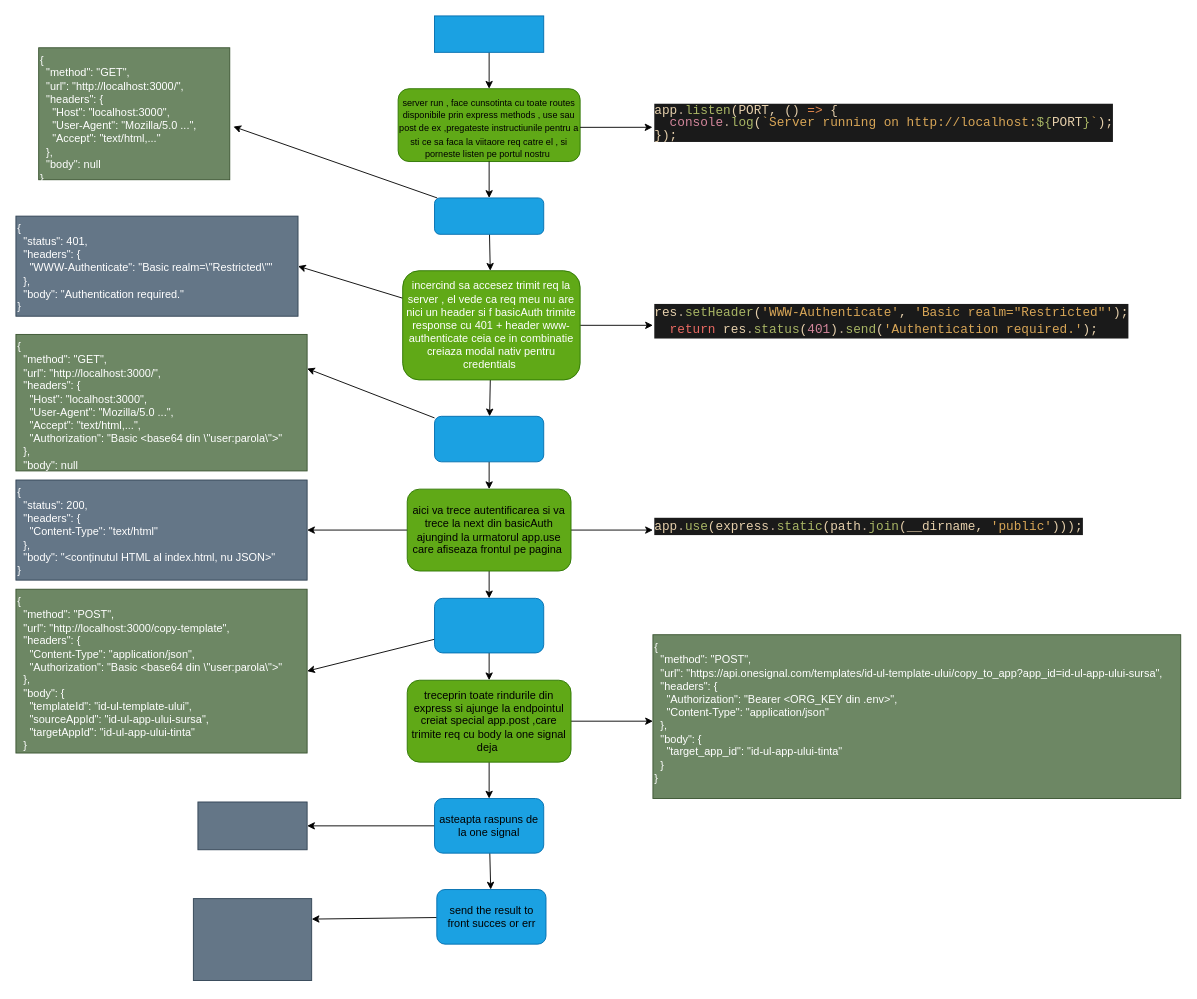
Some shapes in this 1197 by 999 pixel diagram are drawn without their labels. The box of each missing label's shape, as (x1, y1, x2, y2) in pixels:
inseram datele in formular si apasam send: (434, 597, 544, 653)
inseram datele si retrimitem alt req cu date pentru auth: (434, 415, 544, 462)
localhost:PORT: (434, 197, 544, 234)
npm start: (434, 15, 544, 52)
{ "ok": true, "data": { "success": true } }: (192, 898, 312, 981)
{ "success": true }: (197, 801, 307, 850)
